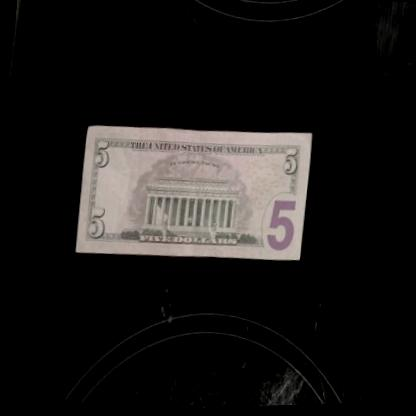five-back: (75, 116, 314, 273)
